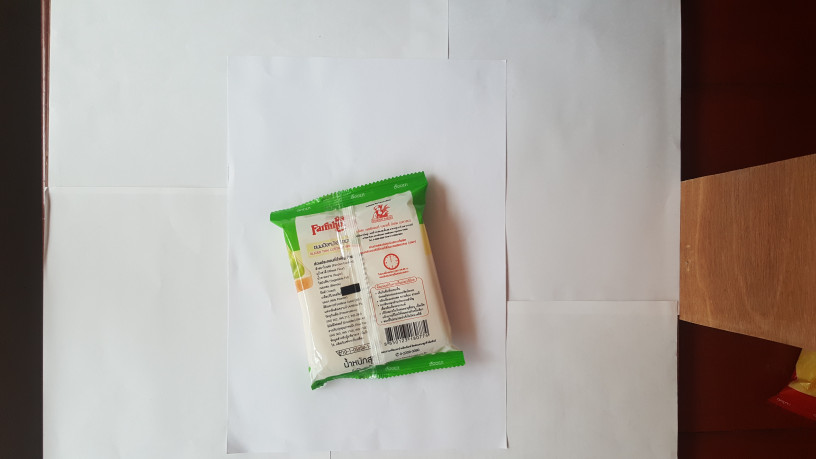farmhouse-bread-pandan: (260, 161, 470, 391)
